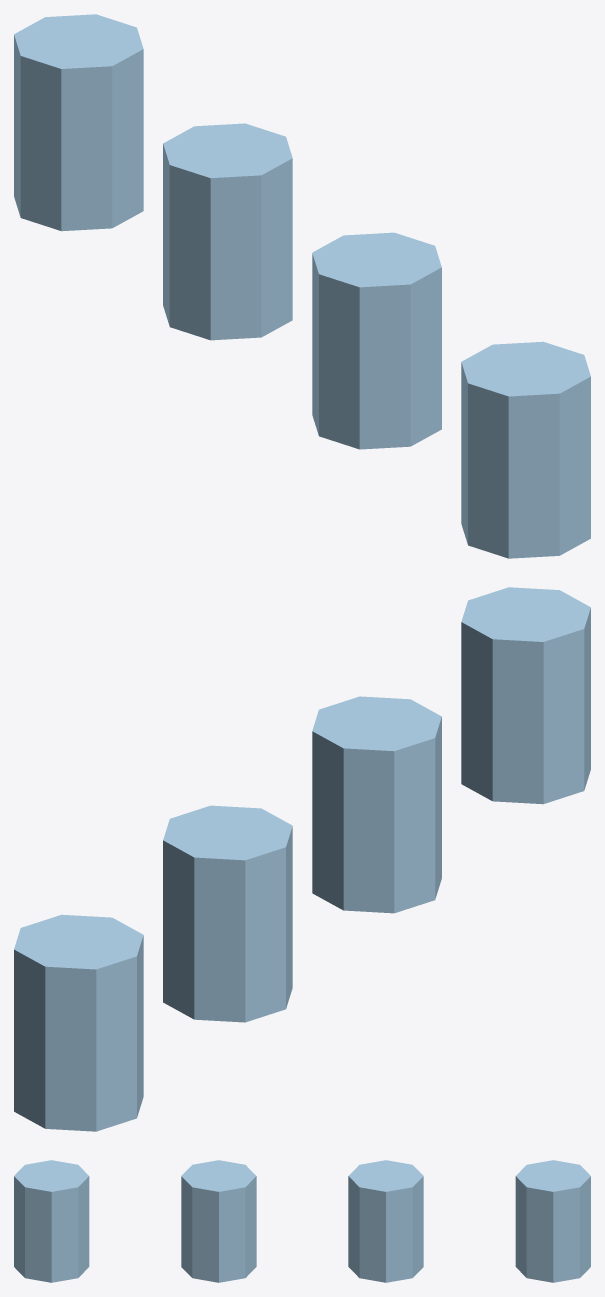
File: SM_Slifer_Interior_Glass_NoCol.fbx
3 renders of one model, top to bottom at view 1: azimuth 30°, elevation 25°; view 2: azimuth 150°, elevation 25°; view 3: azimuth 270°, elevation 25°, orthographic. The views are drawn at different scales.
Parts seen in each view (by area): view 1: SM_Slifer_Interior_Glass_NoCol; view 2: SM_Slifer_Interior_Glass_NoCol; view 3: SM_Slifer_Interior_Glass_NoCol.
Boxes of the visible parts, x1,y1,x2,y2 form: SM_Slifer_Interior_Glass_NoCol: (14,14,590,558); SM_Slifer_Interior_Glass_NoCol: (14,587,590,1131); SM_Slifer_Interior_Glass_NoCol: (14,1160,590,1282).
Size of the model in its own units: 0.09 by 0.12 by 0.69.
